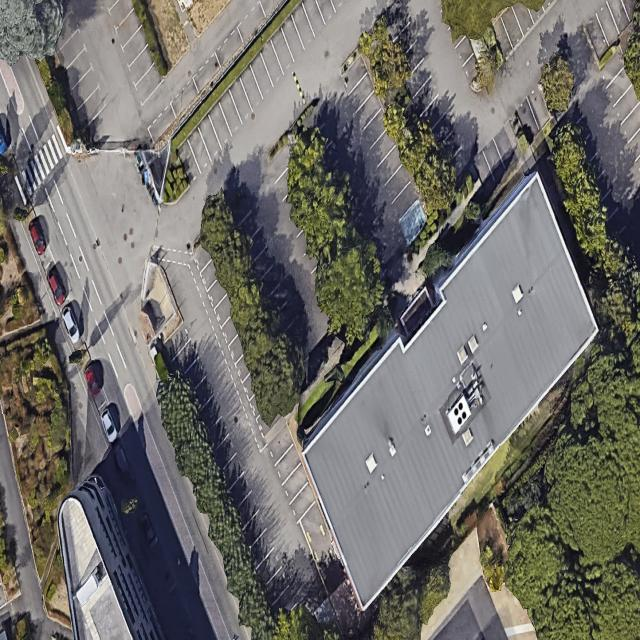immeuble: (242, 166, 640, 610), (27, 469, 165, 640)
